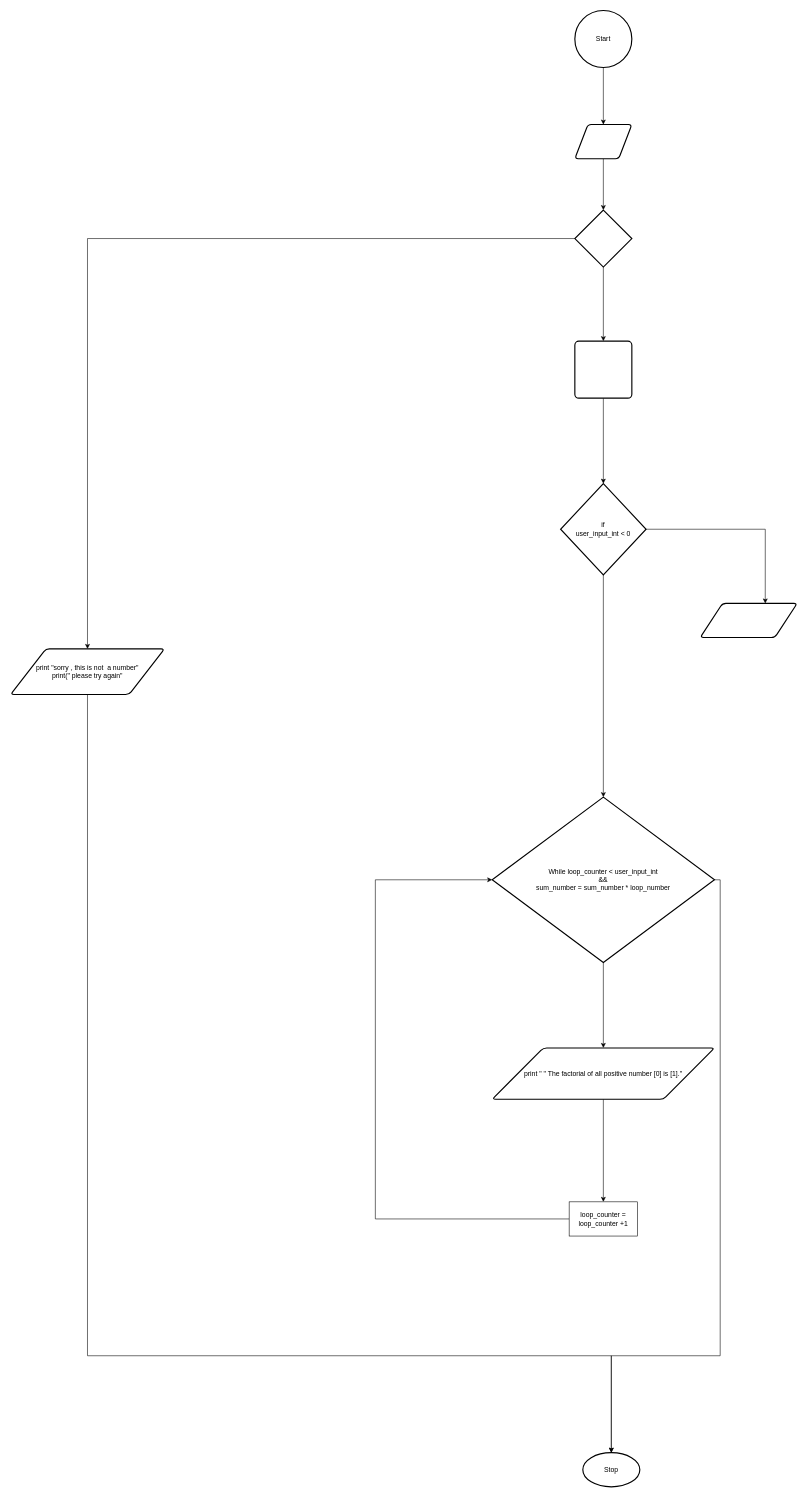
Some shapes in this 807 by 1497 pixel diagram are drawn without their labels. The centre of each missing label's shape, as x and y in pixels:
convert string to int: (x=603, y=369)
Enter a positive integer: (x=603, y=141)
print " sorry, this is not a positive number": (x=748, y=620)
try: (x=603, y=238)
